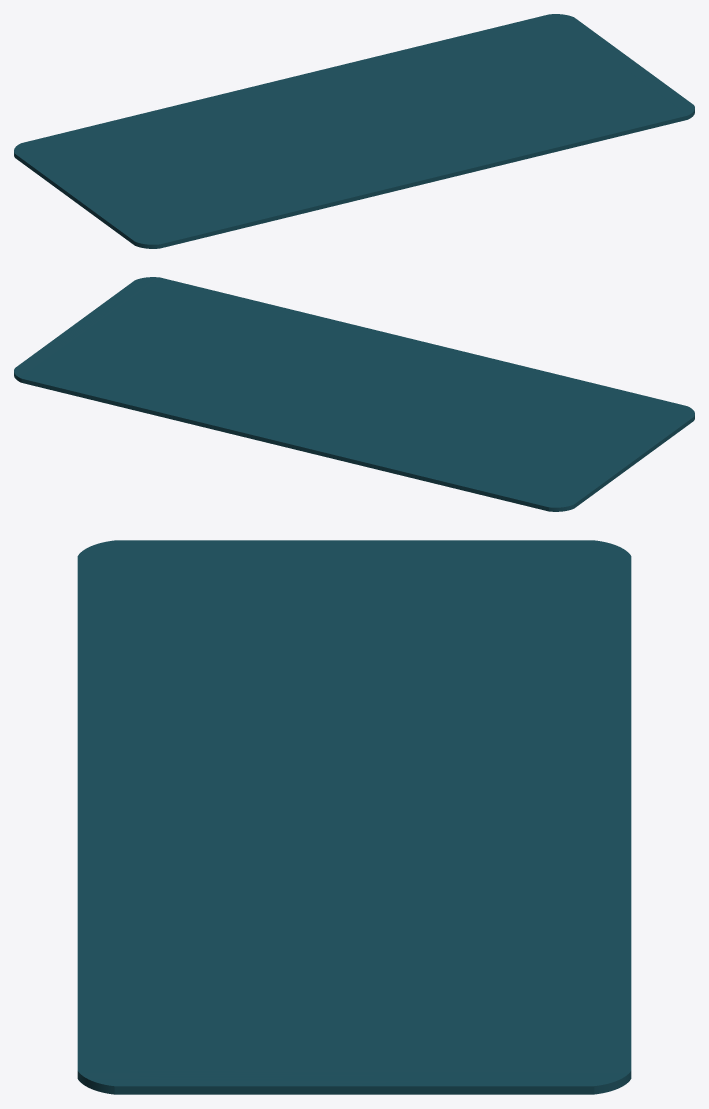
The model's file is traffic_sign_primitive_1.dae.
3 views of the same model, one above another, from view 1: azimuth 30°, elevation 25°; view 2: azimuth 150°, elevation 25°; view 3: azimuth 270°, elevation 25° (orthographic). The views are drawn at different scales.
Visible parts, largest first — view 1: coords_ME_ID11_MA___auto_275; view 2: coords_ME_ID11_MA___auto_275; view 3: coords_ME_ID11_MA___auto_275.
Part boxes in pixels (box(x1,y1,x2,y2)): coords_ME_ID11_MA___auto_275: box(14, 14, 694, 248); coords_ME_ID11_MA___auto_275: box(14, 277, 694, 511); coords_ME_ID11_MA___auto_275: box(77, 540, 631, 1094).
Size of the model in its own units: 28.64 by 0.2074 by 12.28.
